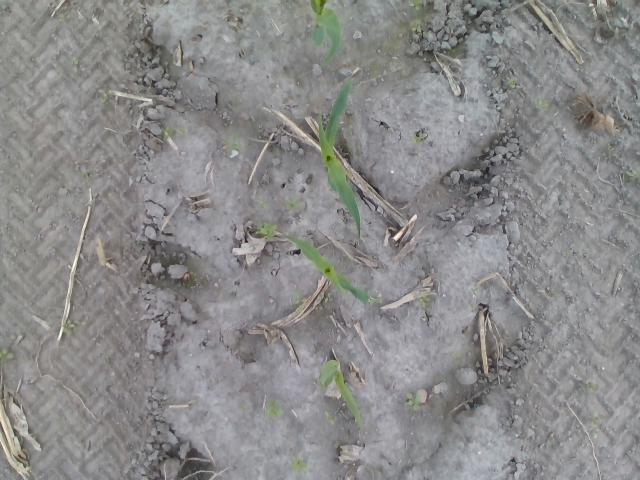Maize: (271, 233, 383, 303), (318, 77, 362, 241), (317, 359, 363, 430), (310, 0, 343, 68)
Weeds: (262, 398, 286, 420), (254, 221, 276, 243), (222, 135, 245, 156), (404, 392, 422, 412), (290, 457, 309, 474), (292, 292, 308, 312), (284, 196, 303, 210), (602, 144, 618, 160), (625, 166, 640, 182), (62, 320, 76, 336), (580, 379, 596, 393), (533, 96, 549, 110), (0, 348, 14, 362), (412, 132, 426, 146), (408, 18, 422, 32), (160, 126, 173, 140), (70, 56, 80, 73), (419, 294, 431, 308), (100, 92, 116, 102), (590, 412, 601, 426), (409, 0, 423, 11), (58, 13, 73, 23), (506, 76, 518, 88), (324, 410, 334, 424), (175, 126, 188, 134), (258, 198, 268, 208), (550, 290, 560, 298), (324, 292, 332, 302), (470, 286, 480, 294)
